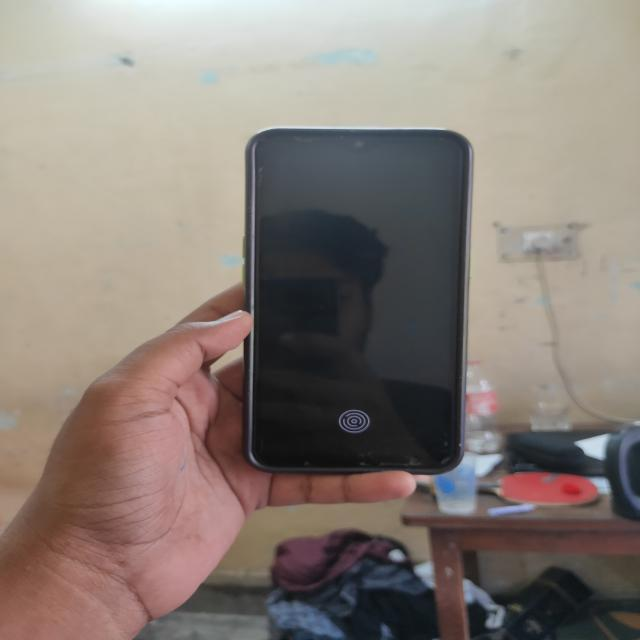Phone: (240, 121, 495, 492)
